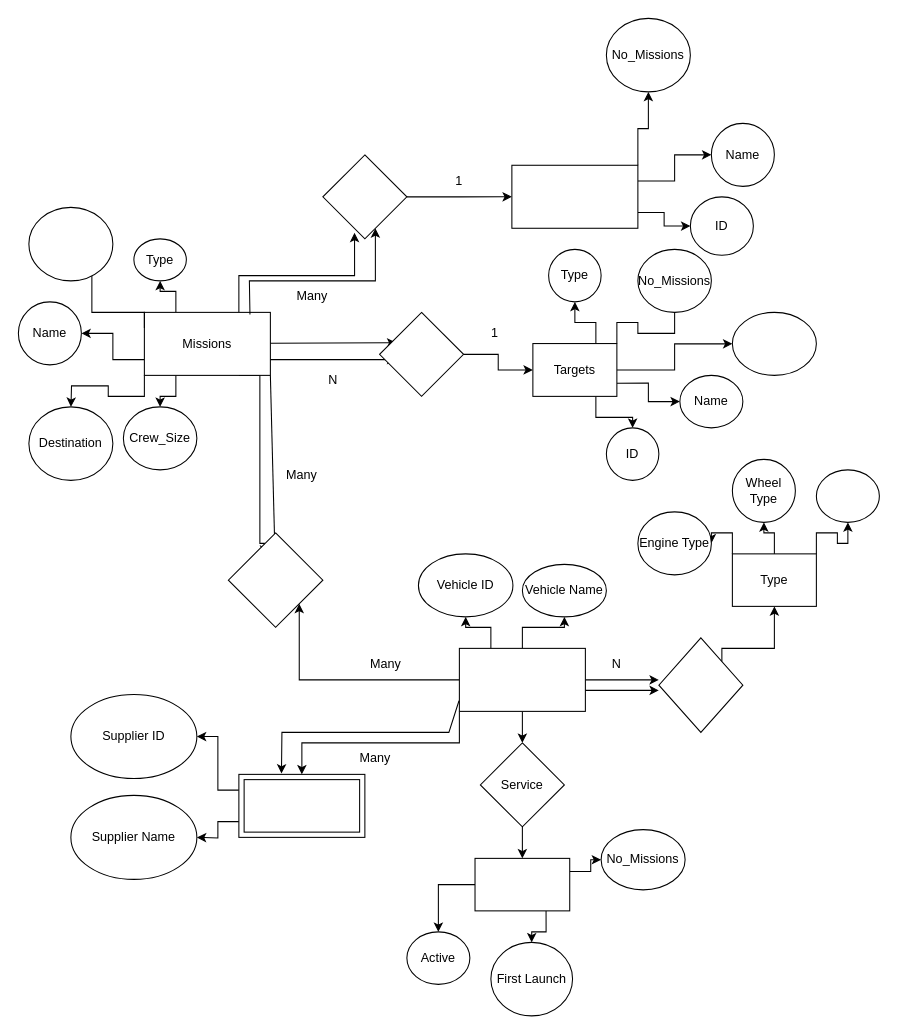
Some shapes in this 898 by 1034 pixel diagram are drawn without their labels. The shapes that lost their labels are listed below. From the top down, each one's box as (x1, y1, x2, y2) in pixels, then its label:
(322, 154, 407, 239): Attends
(511, 164, 638, 228): Astronaut
(28, 206, 113, 281): Launch_Date
(379, 311, 464, 396): Designated
(731, 311, 816, 375): First_Mission
(815, 469, 879, 522): Part Number
(227, 532, 323, 627): HasTransport
(458, 647, 585, 711): Vehicle
(658, 637, 743, 732): Parts
(238, 773, 365, 837): Suppliers
(474, 857, 570, 911): Services
